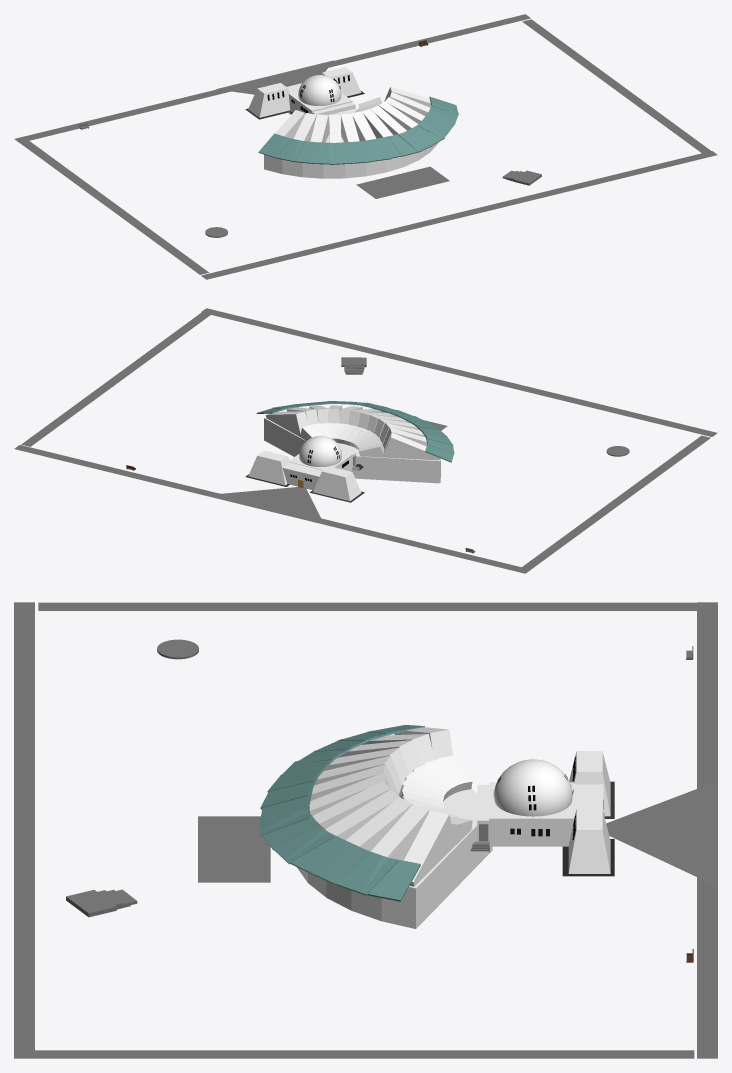
The model's file is asmundarsafn_cpy_to_test_10.obj.
The picture shows the model from 3 angles, top to bottom: view 1: azimuth 30°, elevation 25°; view 2: azimuth 150°, elevation 25°; view 3: azimuth 270°, elevation 25°; orthographic projection. The views are drawn at different scales.
Parts seen in each view (by area): view 1: Plane.029, Cube.047, Cube.033, syningarsalur, Plane.035, pavement, Sphere, h_hlid, v_hlid, innanhus; view 2: Plane.029, Cube.033, syningarsalur, pavement, Cube.047, h_hlid, Sphere, v_hlid, adaldyr; view 3: Plane.029, Cube.033, Cube.047, pavement, syningarsalur, Plane.035, Sphere, innanhus, v_hlid, h_hlid, Cube.
Boxes of the visible parts, x1,y1,x2,y2 form: Plane.029: (14, 14, 717, 279); Cube.047: (258, 96, 458, 164); Cube.033: (275, 87, 431, 142); syningarsalur: (264, 109, 437, 178); Plane.035: (356, 166, 449, 198); pavement: (216, 60, 333, 94); Sphere: (298, 75, 341, 105); h_hlid: (248, 83, 290, 117); v_hlid: (321, 67, 361, 96); innanhus: (288, 91, 352, 113); Plane.029: (14, 308, 717, 573); Cube.033: (266, 405, 440, 460); syningarsalur: (264, 417, 440, 483); pavement: (206, 487, 323, 523); Cube.047: (256, 401, 454, 462); h_hlid: (313, 466, 361, 501); Sphere: (299, 436, 341, 466); v_hlid: (248, 450, 289, 485); adaldyr: (282, 462, 322, 490); Plane.029: (14, 602, 717, 1058); Cube.033: (309, 727, 472, 886); Cube.047: (259, 725, 424, 901); pavement: (606, 781, 717, 886); syningarsalur: (297, 788, 492, 928); Plane.035: (198, 816, 270, 882); Sphere: (494, 759, 572, 816); innanhus: (489, 782, 575, 846); v_hlid: (568, 809, 610, 873); h_hlid: (569, 751, 610, 816); Cube: (66, 889, 137, 917).
Size of the model in its own units: 103 by 9.13 by 66.98.
